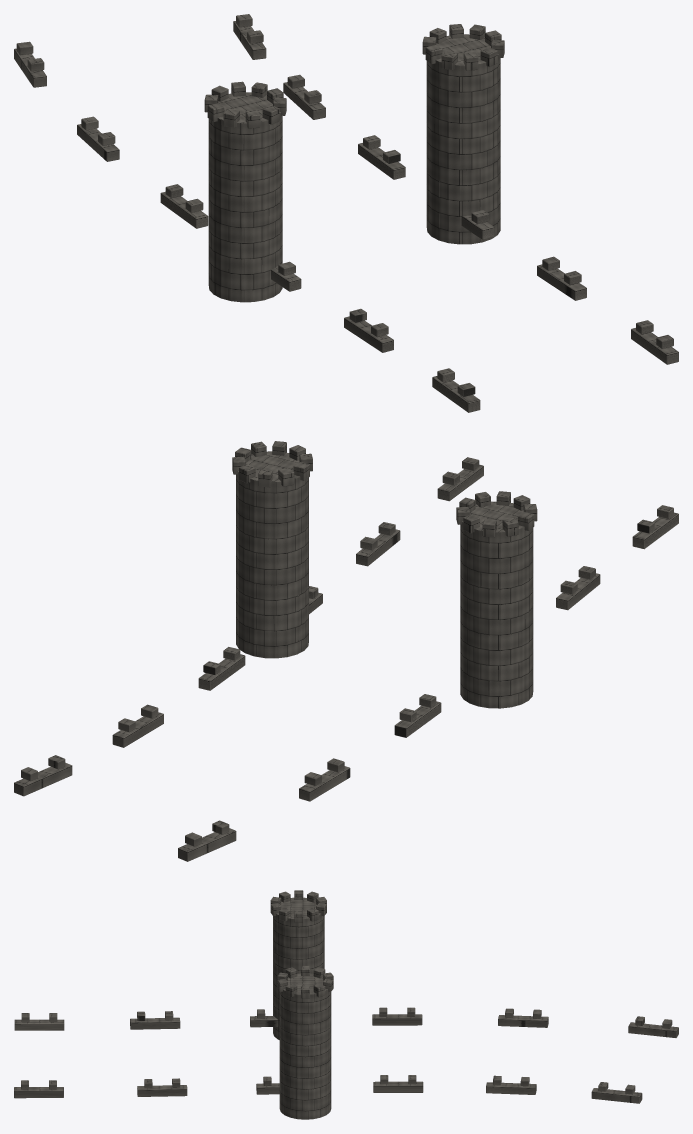
Rendered from Sector1_CitadelStone_1.fbx.
The picture shows the model from 3 angles, top to bottom: view 1: azimuth 30°, elevation 25°; view 2: azimuth 150°, elevation 25°; view 3: azimuth 270°, elevation 25°; orthographic projection. The views are drawn at different scales.
Visible parts, largest first — view 1: Sector1_CitadelStone_1; view 2: Sector1_CitadelStone_1; view 3: Sector1_CitadelStone_1.
Boxes of the visible parts, x1=… form: Sector1_CitadelStone_1: x1=14, y1=14, x2=678, y2=412; Sector1_CitadelStone_1: x1=14, y1=441, x2=678, y2=861; Sector1_CitadelStone_1: x1=14, y1=890, x2=678, y2=1119.
Bounding box in the file's own units: 11834 × 7250 × 33354.
Materials: 1 (1 with a texture image).
